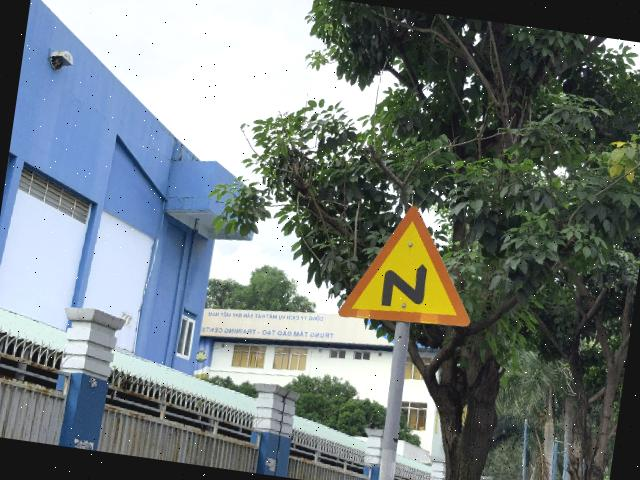nhieu-cho-ngoat-nguy-hiem-lien-tiep: (338, 198, 486, 334)
